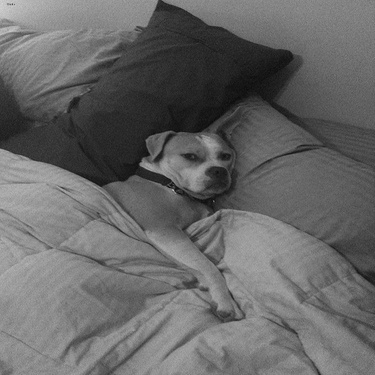dog: (93, 125, 247, 325)
